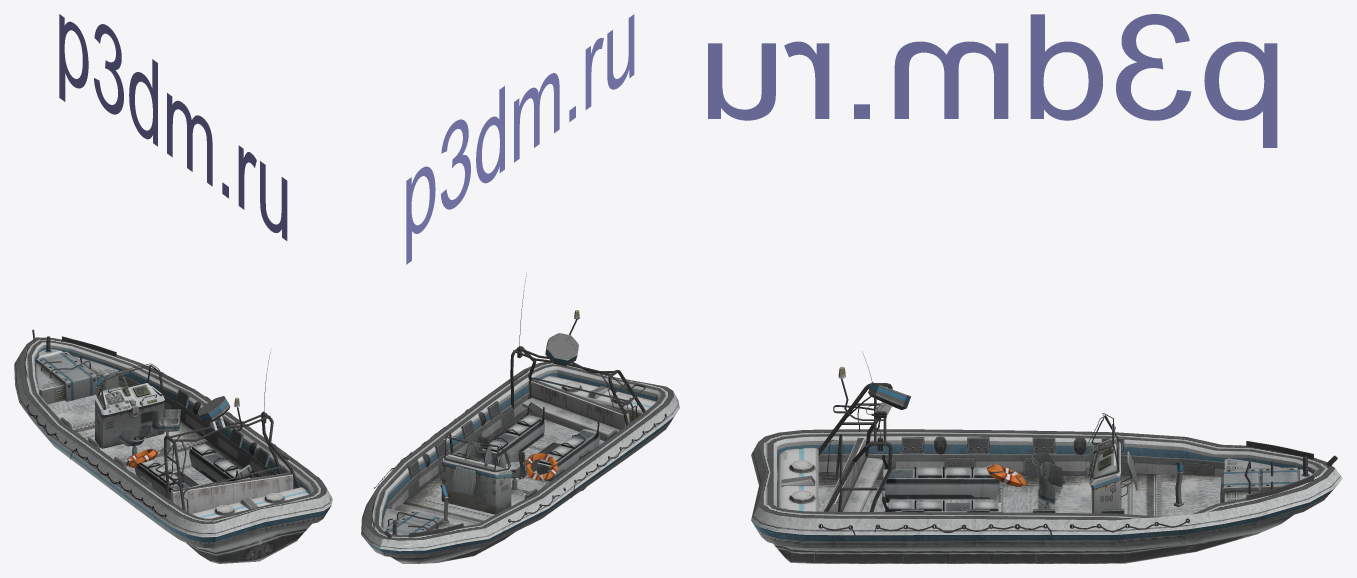
File: magna.obj
3 views of the same model, side by side, from view 1: azimuth 30°, elevation 25°; view 2: azimuth 150°, elevation 25°; view 3: azimuth 270°, elevation 25° (orthographic). The views are drawn at different scales.
Visible parts, largest first — view 1: 0001_hull_damaged, Text001, 0000_hull_damaged; view 2: 0001_hull_damaged, Text001, 0000_hull_damaged; view 3: 0001_hull_damaged, Text001, 0000_hull_damaged.
Boxes of the visible parts, x1,y1,x2,y2 form: 0001_hull_damaged: (14, 329, 332, 563); Text001: (59, 14, 287, 240); 0000_hull_damaged: (60, 369, 270, 487); 0001_hull_damaged: (361, 272, 679, 563); Text001: (406, 14, 634, 264); 0000_hull_damaged: (407, 401, 617, 498); 0001_hull_damaged: (751, 351, 1342, 563); Text001: (708, 14, 1277, 147); 0000_hull_damaged: (881, 424, 1124, 513).
Size of the model in its own units: 4.17 by 10.76 by 11.67.
